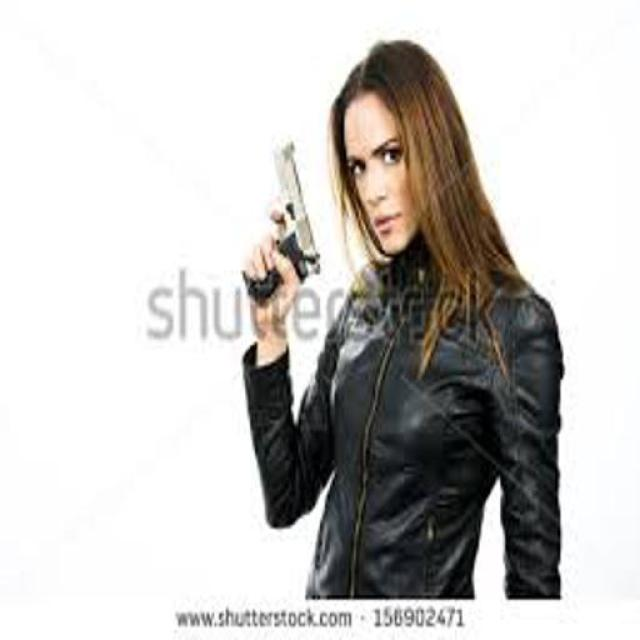pistol: (237, 135, 320, 297)
